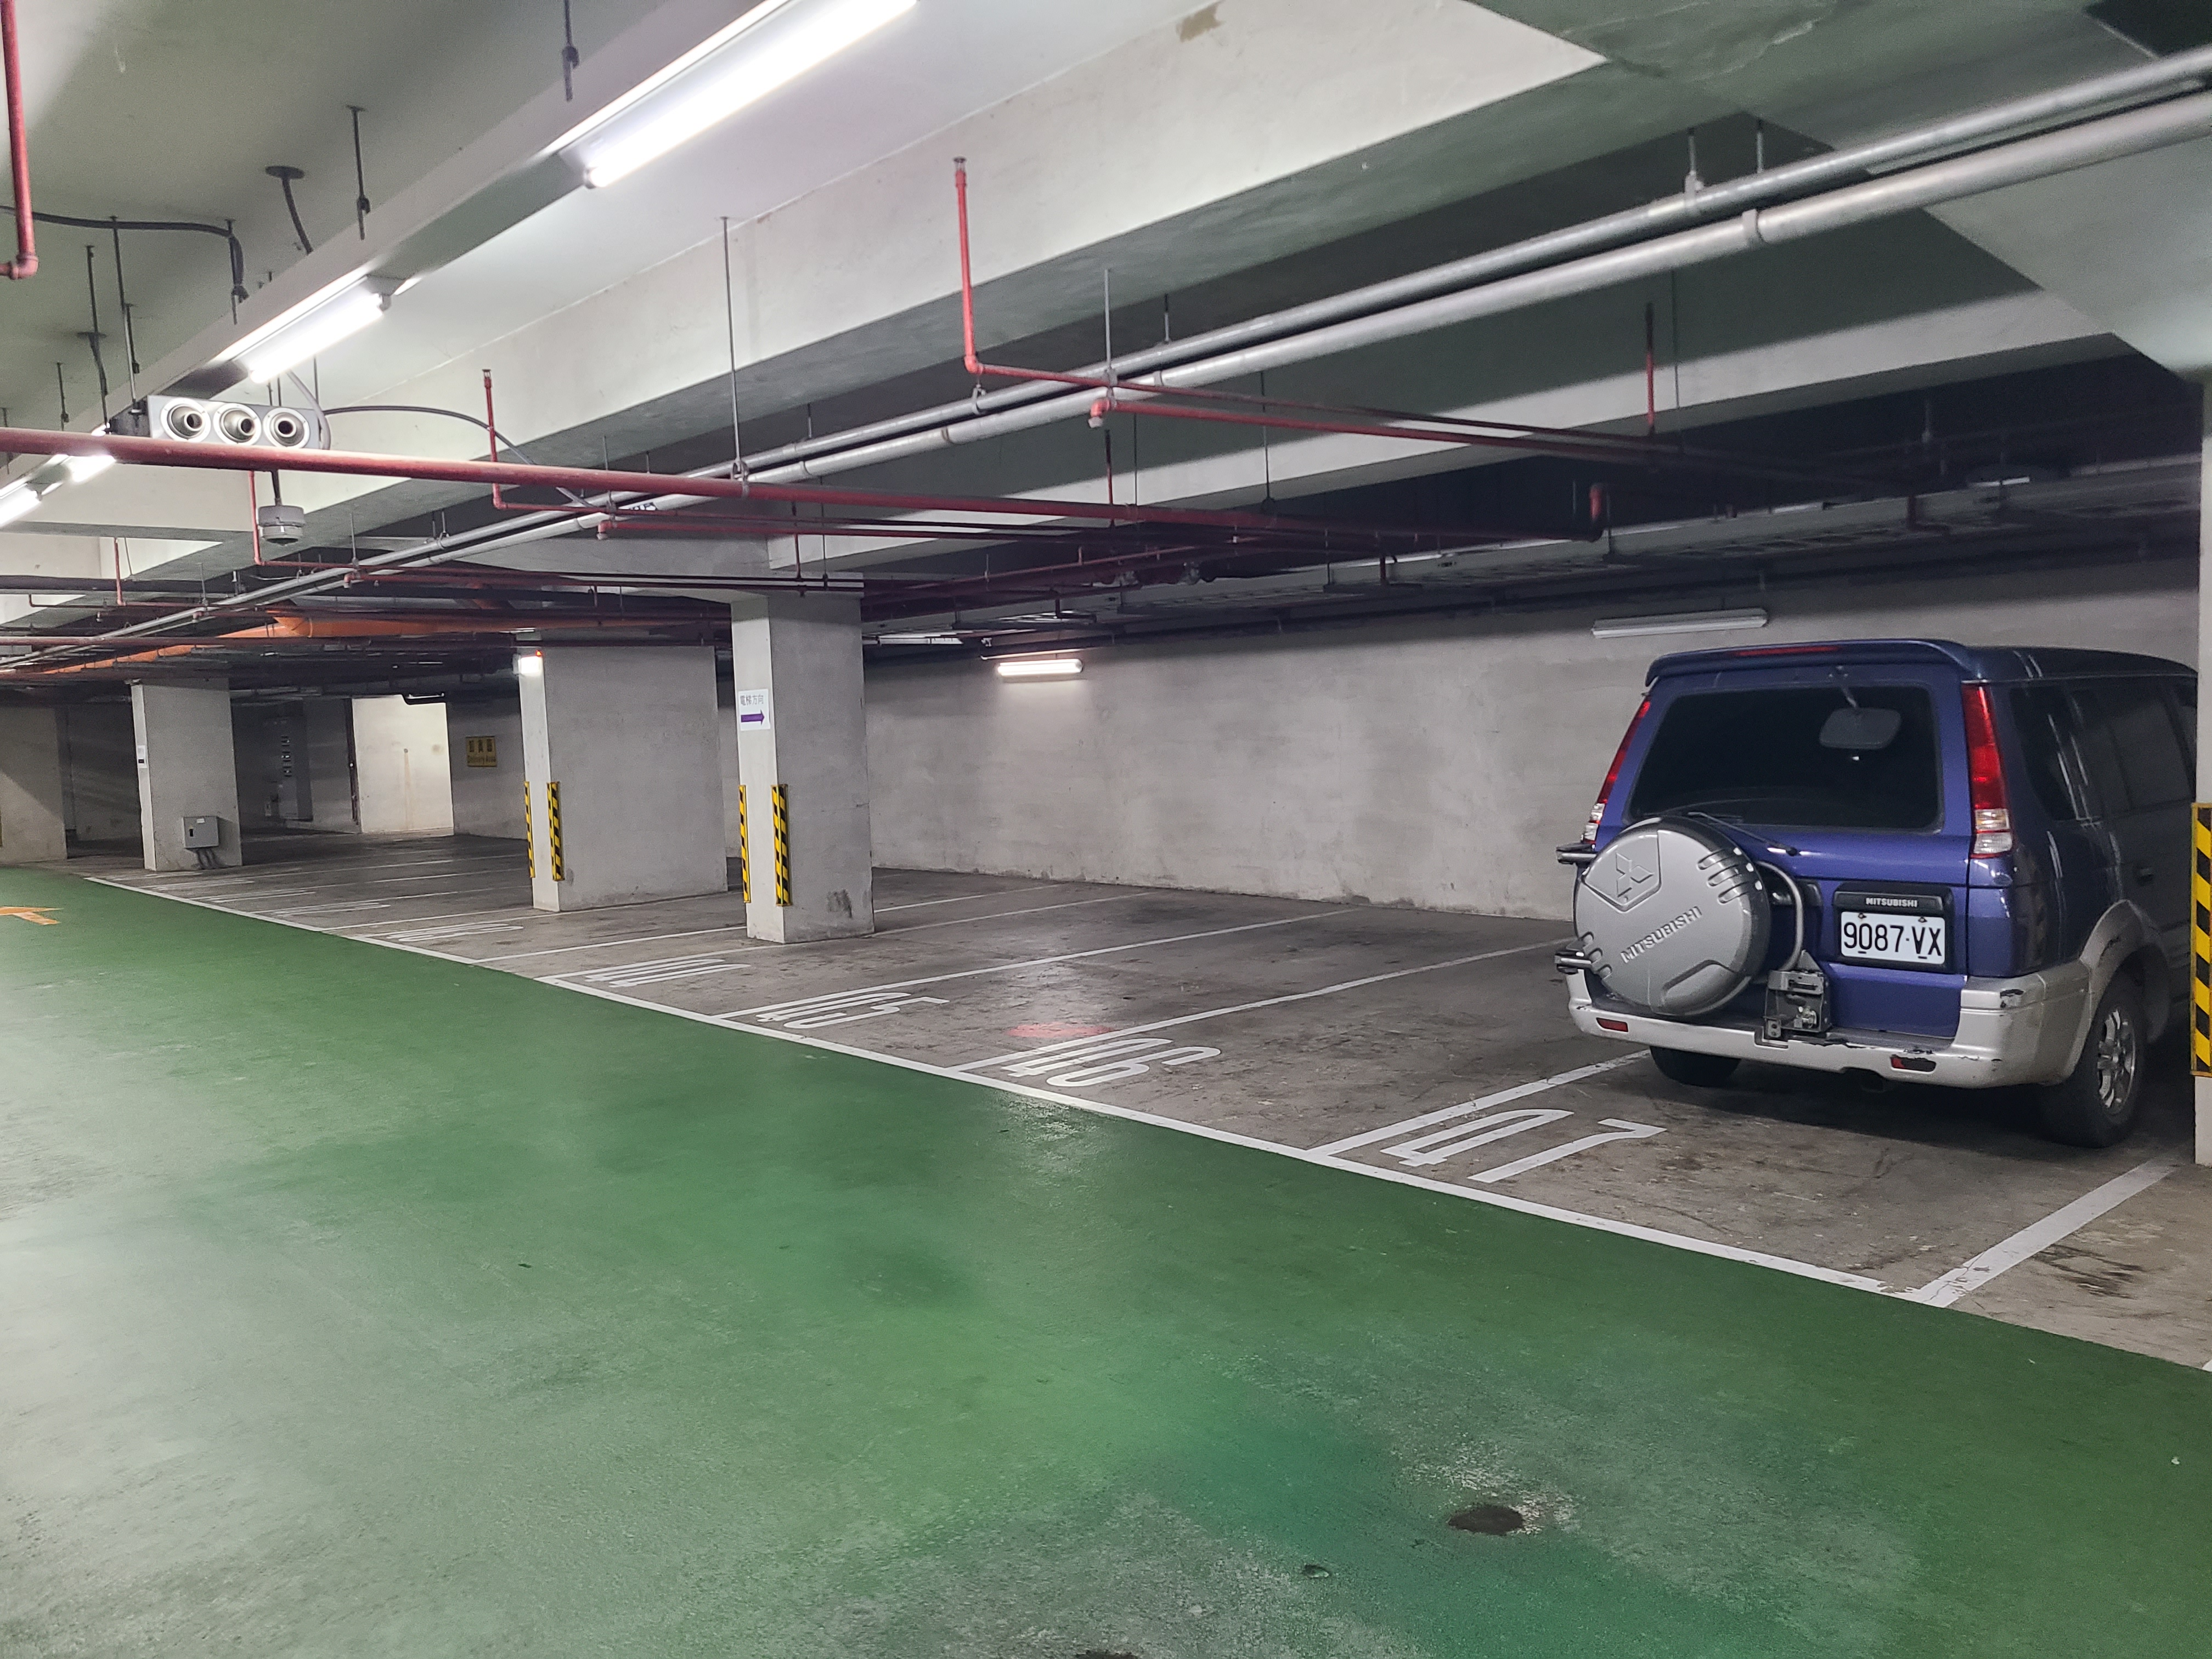car: (1548, 629, 2203, 1141)
